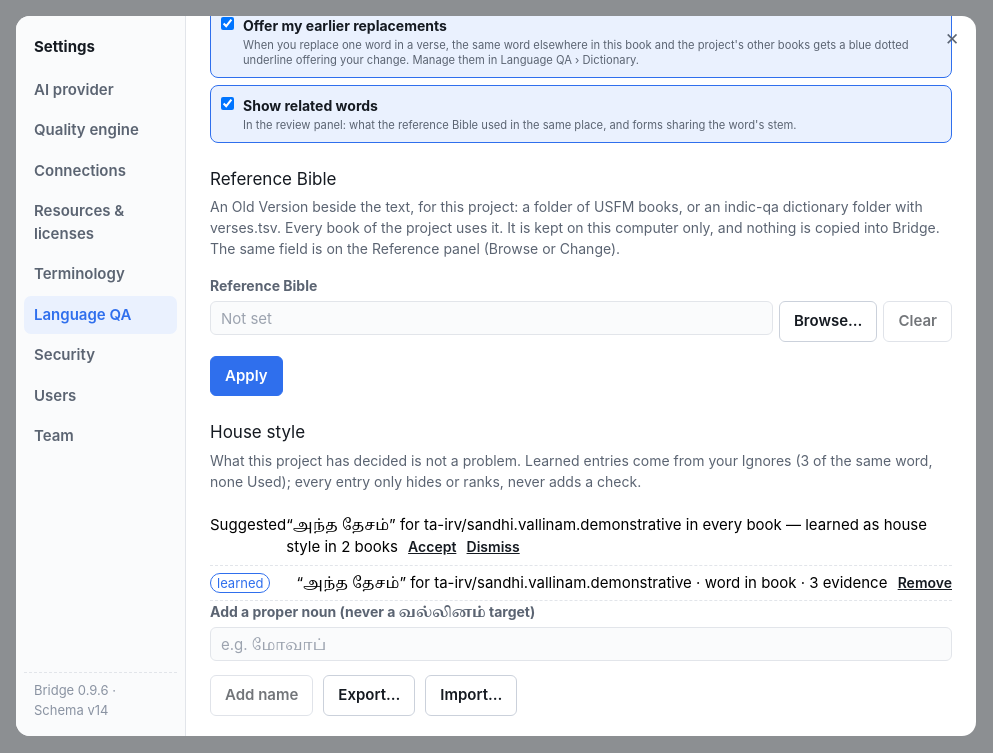
Scenario: SettingsModal terminology (#171) › lists house style with provenance and evidence, and removes, accepts and dismisses (layered-rules 6.3/6.4)
(page scrolled)
Check: the text "“அந்த தேசம்” for ta-irv/sandhi.vallinam.demonstrative · word in book · 3 evidence" is shown, box x1=296 y1=572 x2=952 y2=594
Check: the text "learned" is shown, box x1=210 y1=573 x2=270 y2=593
Click the button "Accept" at (429, 547), box x1=402 y1=536 x2=456 y2=557
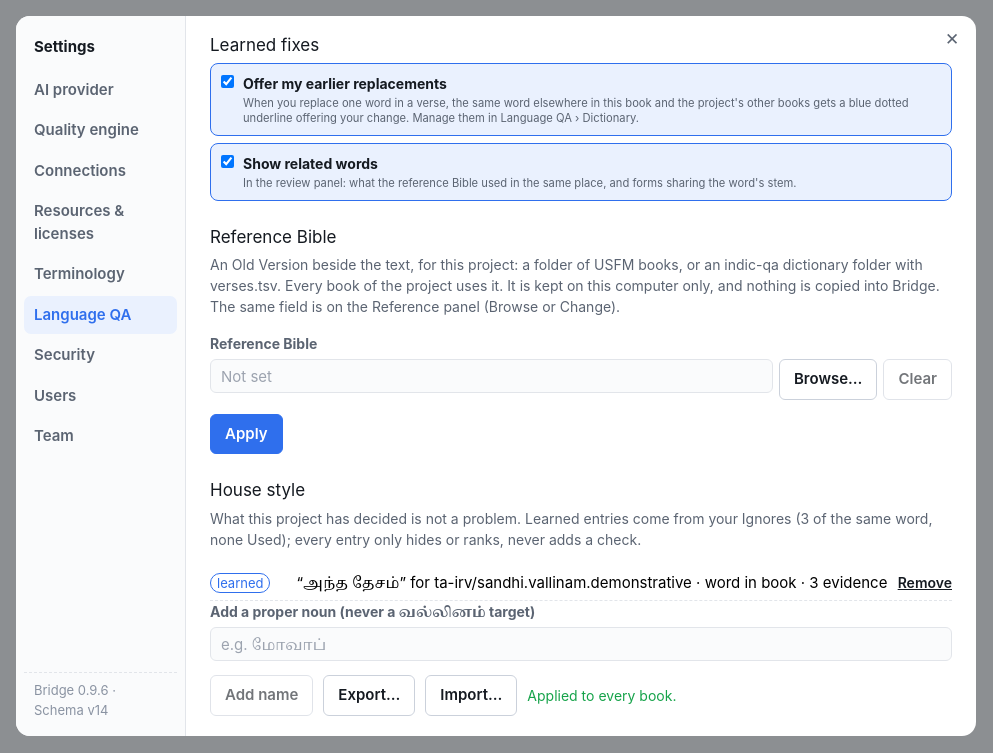
Click the button "Remove" at (922, 582), box x1=892 y1=572 x2=952 y2=593
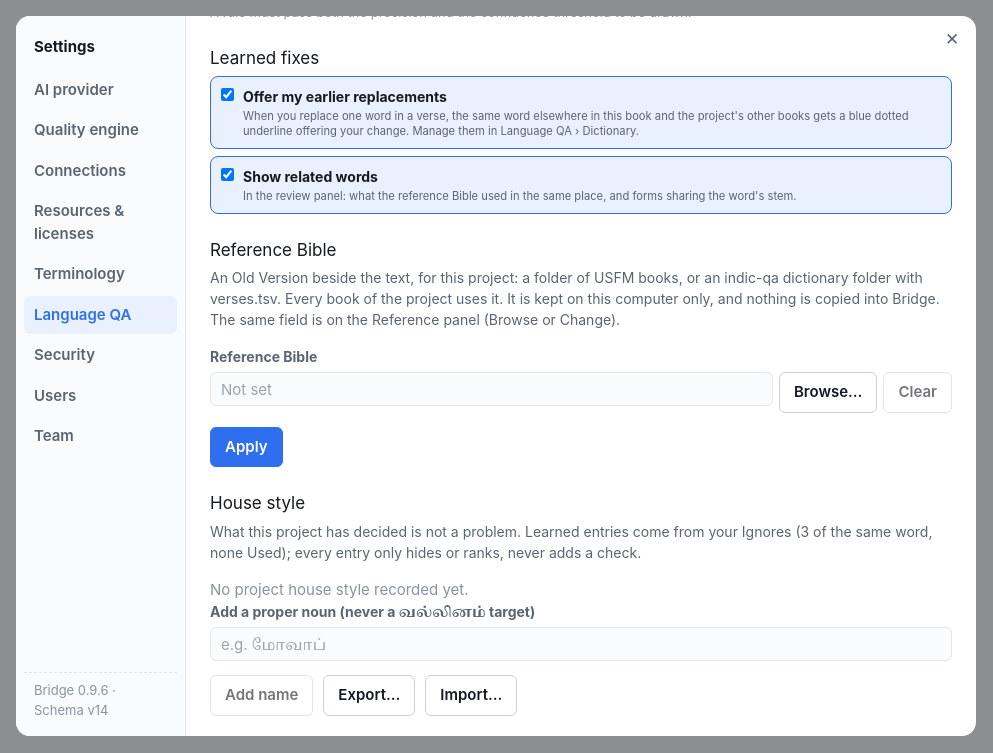
Check: the text "No project house style recorded yet." is shown, box x1=210 y1=580 x2=468 y2=599
